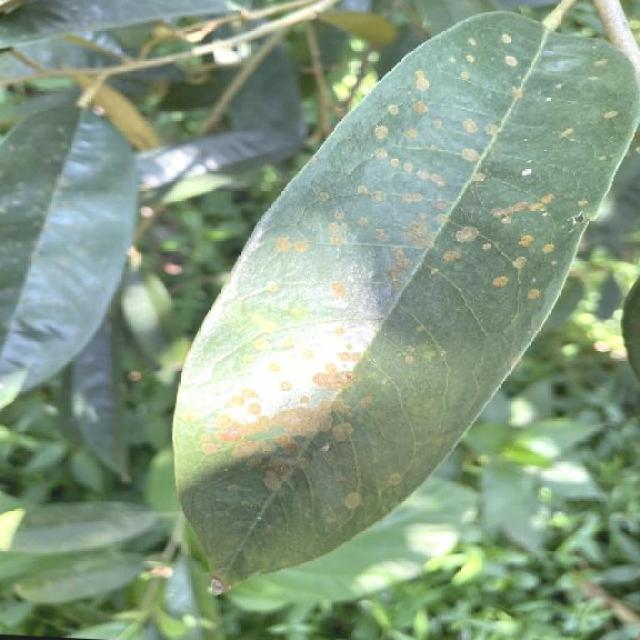Algal Leaf Spot: (150, 0, 640, 626)
